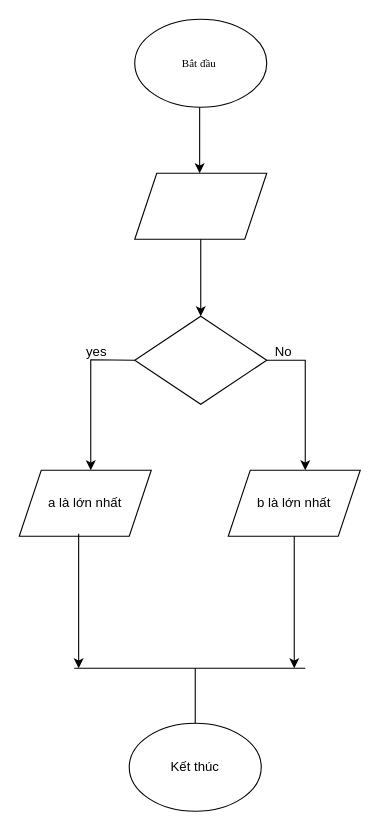
This 380x831 diagram has some shape labels left out. Here are the shapes that lost their labels. From the top down, the box of each, then its label:
(134, 172, 267, 239): Nhập a,b
(134, 315, 267, 404): a>b?
